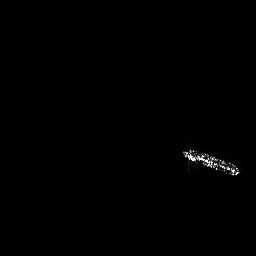ship: (179, 146, 241, 178)
